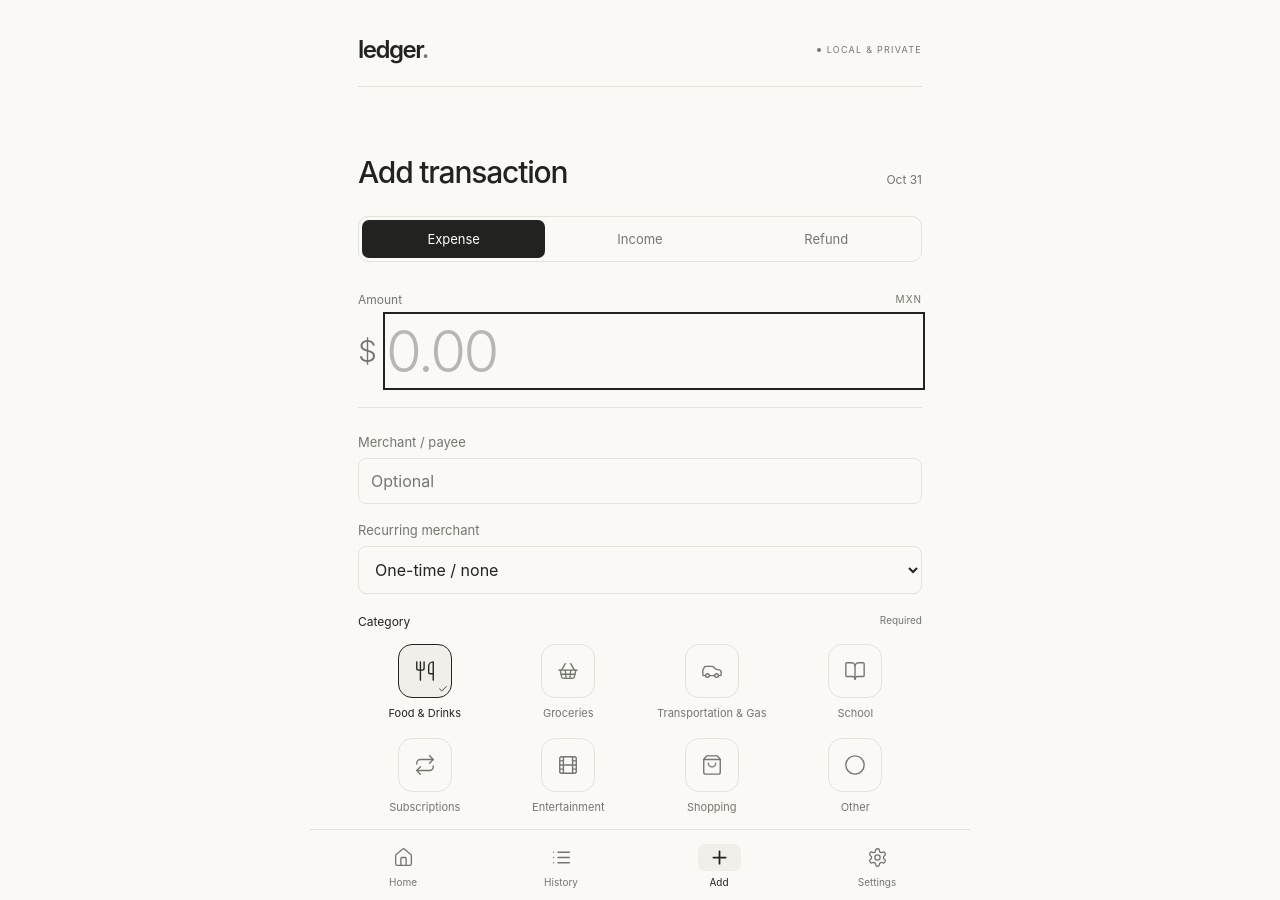
data tools and accessibility flows › labels native dialogs and exposes skip navigation and keyboard-accessible data controls
This screenshot has width=1280, height=900.
Expected: the heading "Add transaction" is shown, [358,155,567,190]
Click the button "Settings". click: x=877, y=866
box: [798,840,956,892]
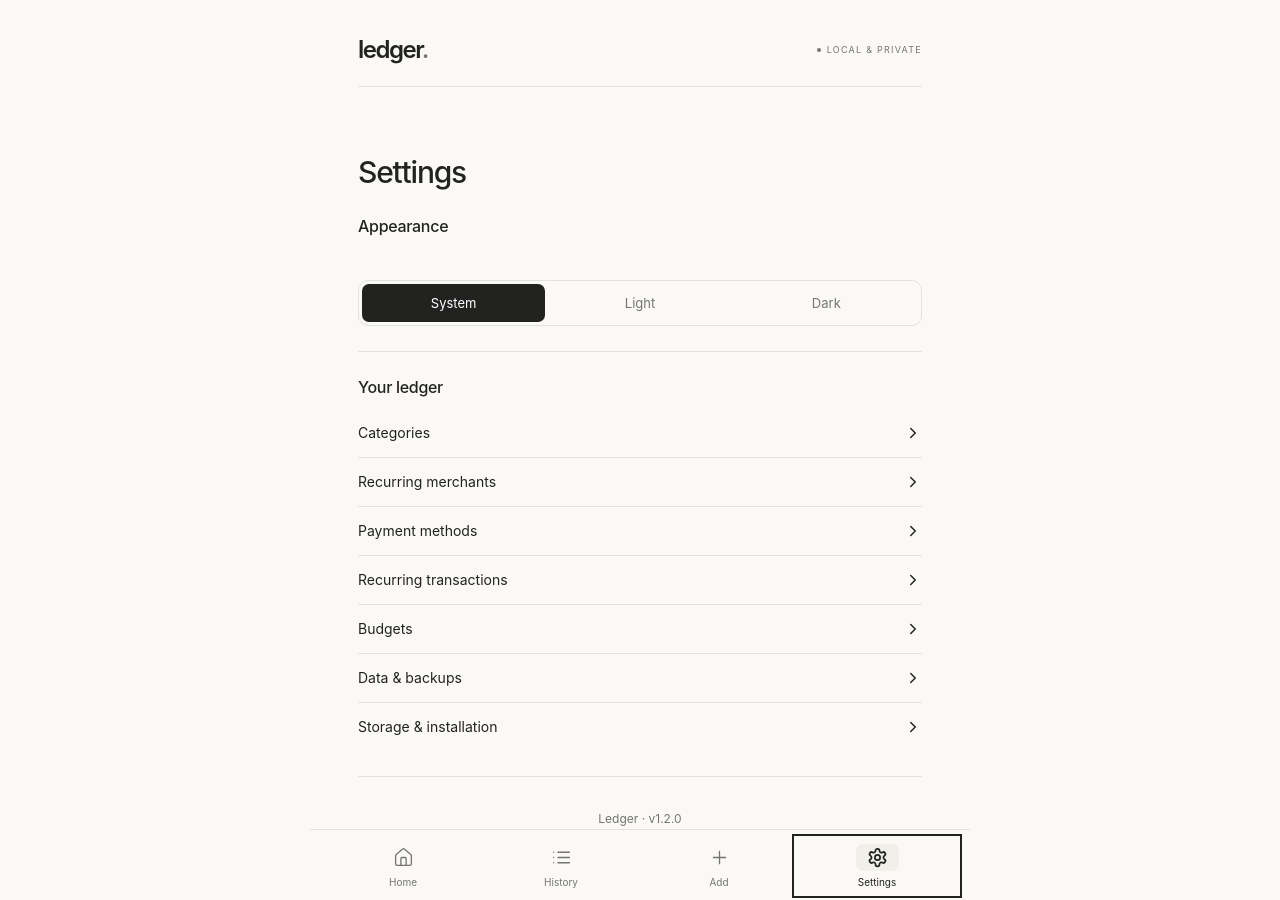
Click the button "Categories". click: x=394, y=433
box: [358,409,922,457]
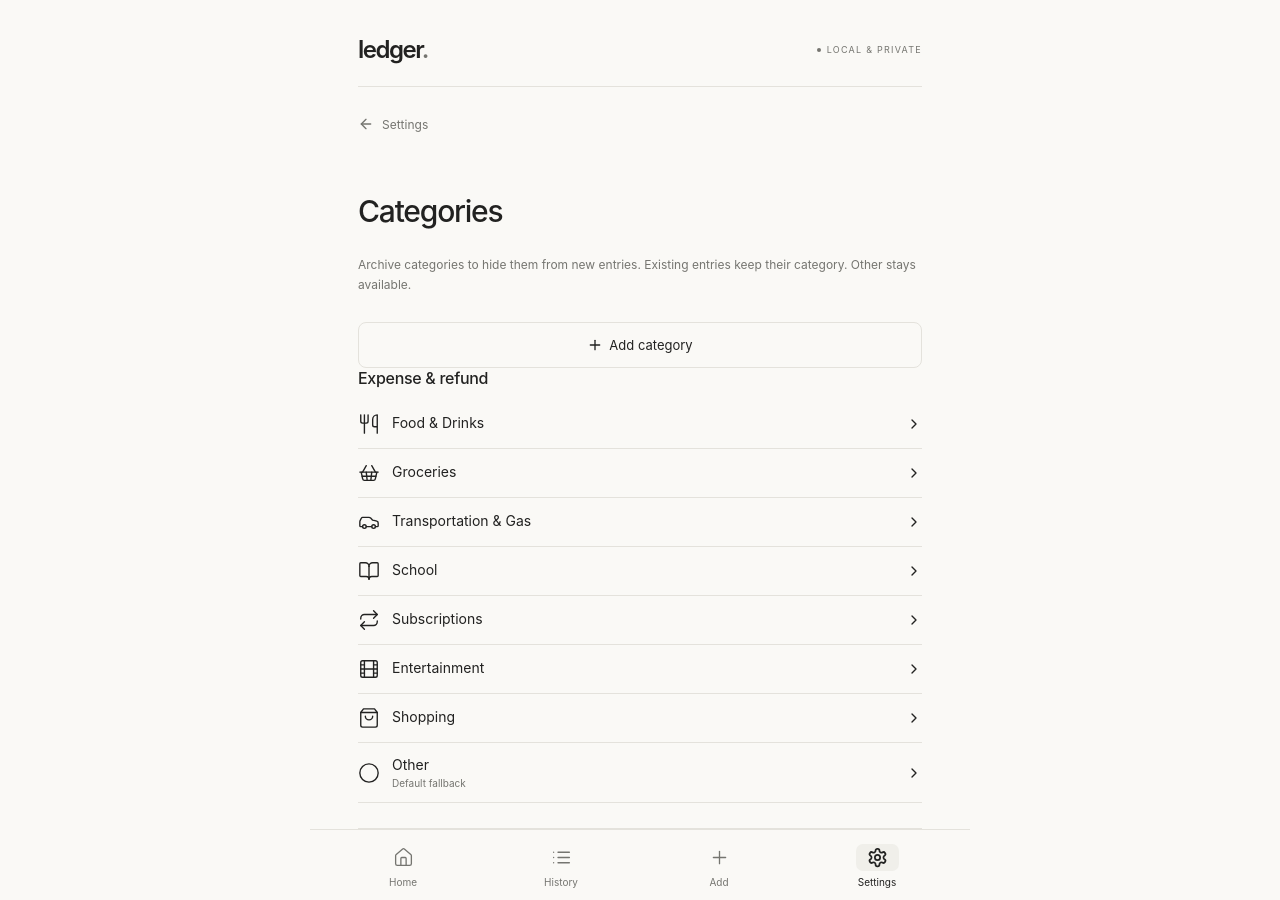
Click the button "Add category". click: x=640, y=345
box: [358,322,922,368]
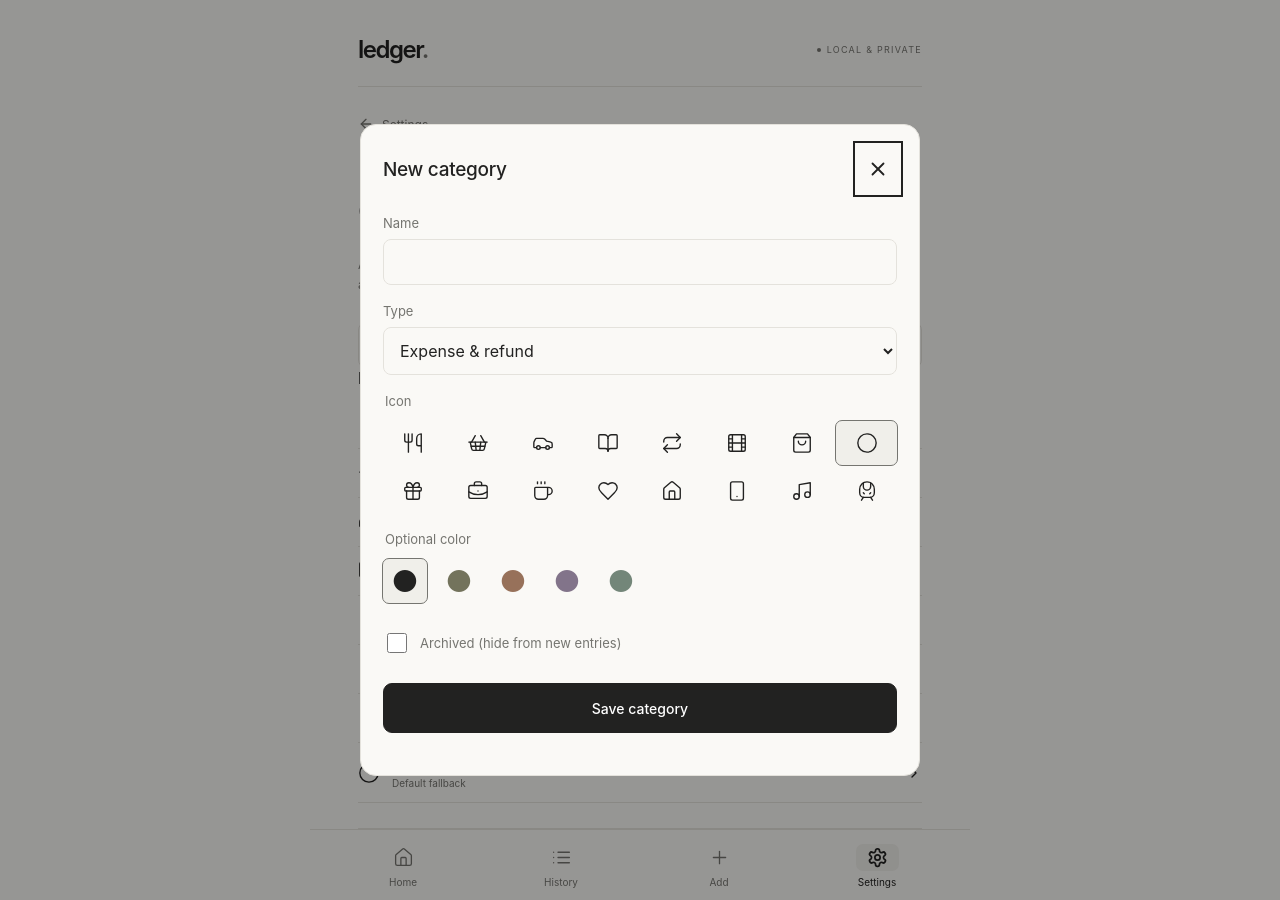
Expected: the field labelled "Name" is shown, [383,239,897,285]
Click the button named "Close dialog". click: x=878, y=169
box: [859,147,897,191]
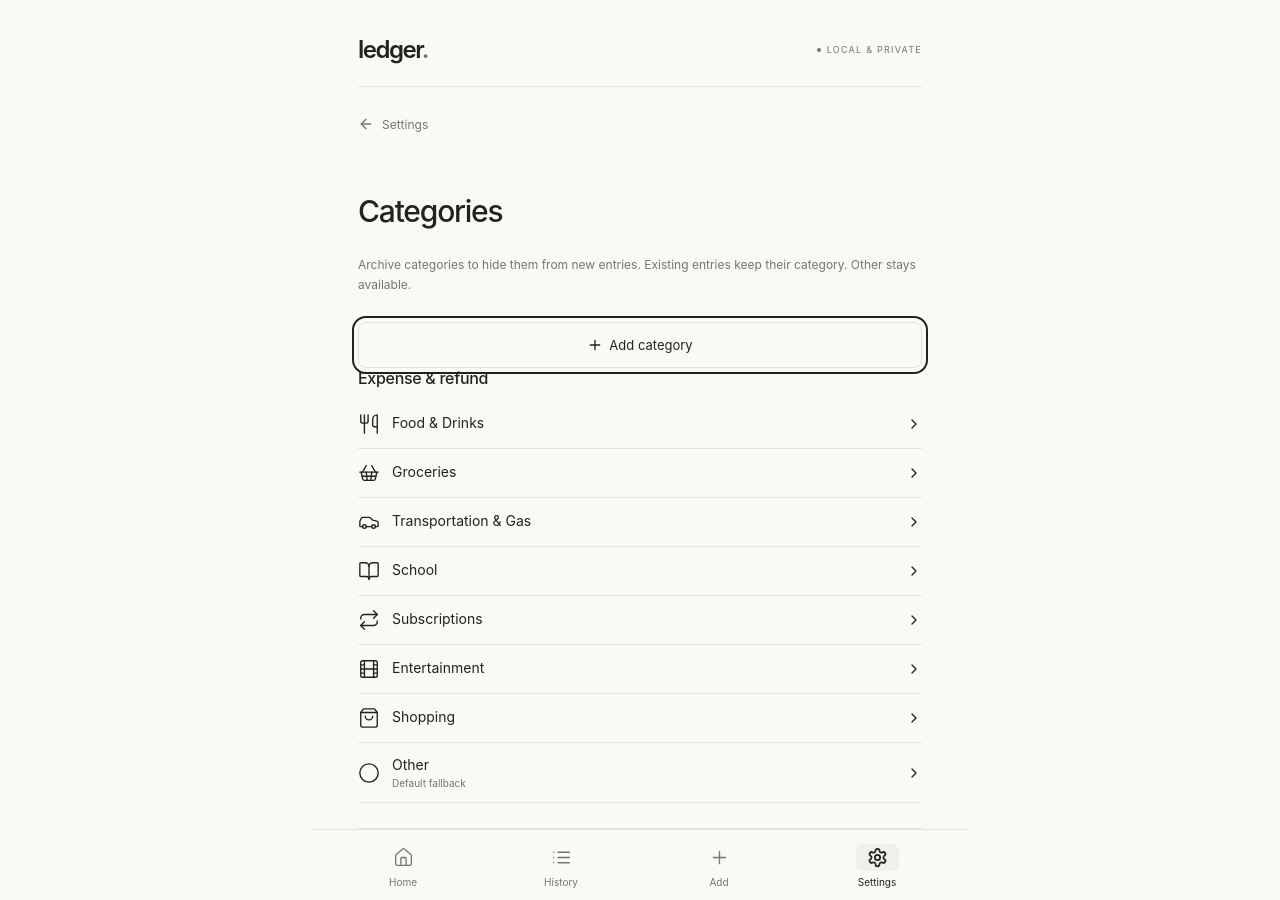
Expected: the dialog is gone
